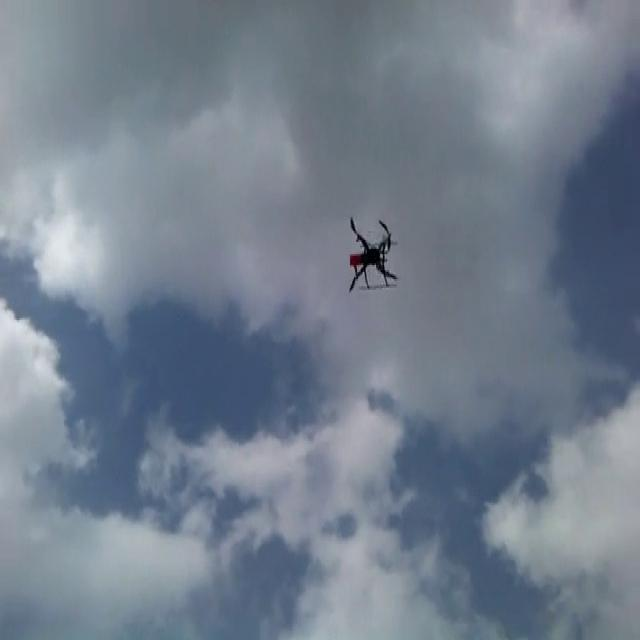drone: (345, 216, 399, 292)
